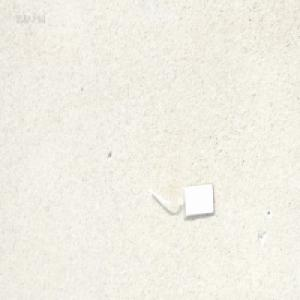LuggageTag: (144, 177, 215, 219)
